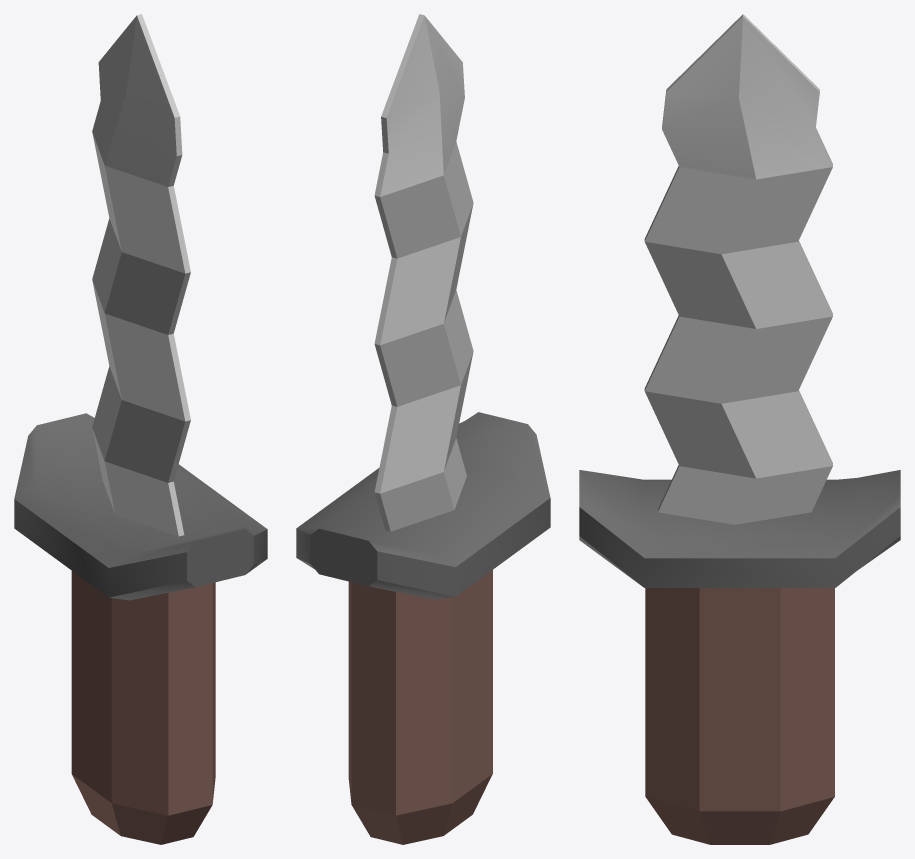
File: SM_Dagger.fbx
3 views of the same model, side by side, from view 1: azimuth 30°, elevation 25°; view 2: azimuth 150°, elevation 25°; view 3: azimuth 270°, elevation 25° (orthographic).
Parts seen in each view (by area): view 1: SM_Dagger; view 2: SM_Dagger; view 3: SM_Dagger.
Part boxes in pixels (bbox=[...]): SM_Dagger: bbox=[14, 14, 267, 844]; SM_Dagger: bbox=[296, 14, 550, 844]; SM_Dagger: bbox=[579, 14, 900, 844].
Size of the model in its own units: 16.53 by 79.63 by 28.64.
